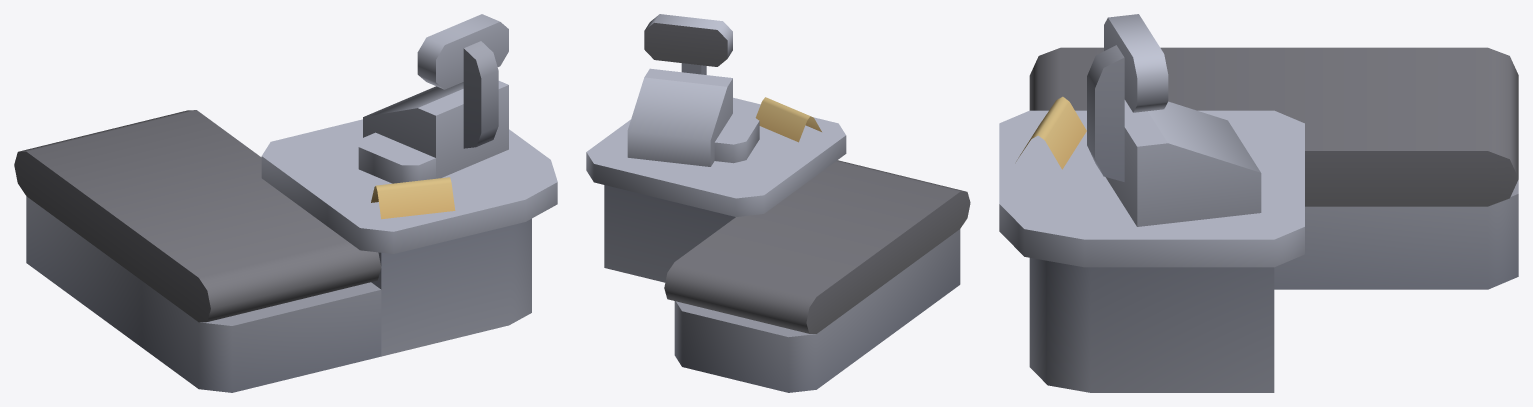
Rendered from cash-register.glb.
The picture shows the model from 3 angles, left to right: view 1: azimuth 30°, elevation 25°; view 2: azimuth 150°, elevation 25°; view 3: azimuth 270°, elevation 25°; orthographic projection. The views are drawn at different scales.
Parts seen in each view (by area): view 1: cash-register; view 2: cash-register; view 3: cash-register.
Boxes of the visible parts, bbox=[...] form: cash-register: bbox=[14, 14, 557, 392]; cash-register: bbox=[586, 14, 970, 392]; cash-register: bbox=[999, 14, 1518, 392].
Size of the model in its own units: 0.85 by 0.5949 by 0.85.
